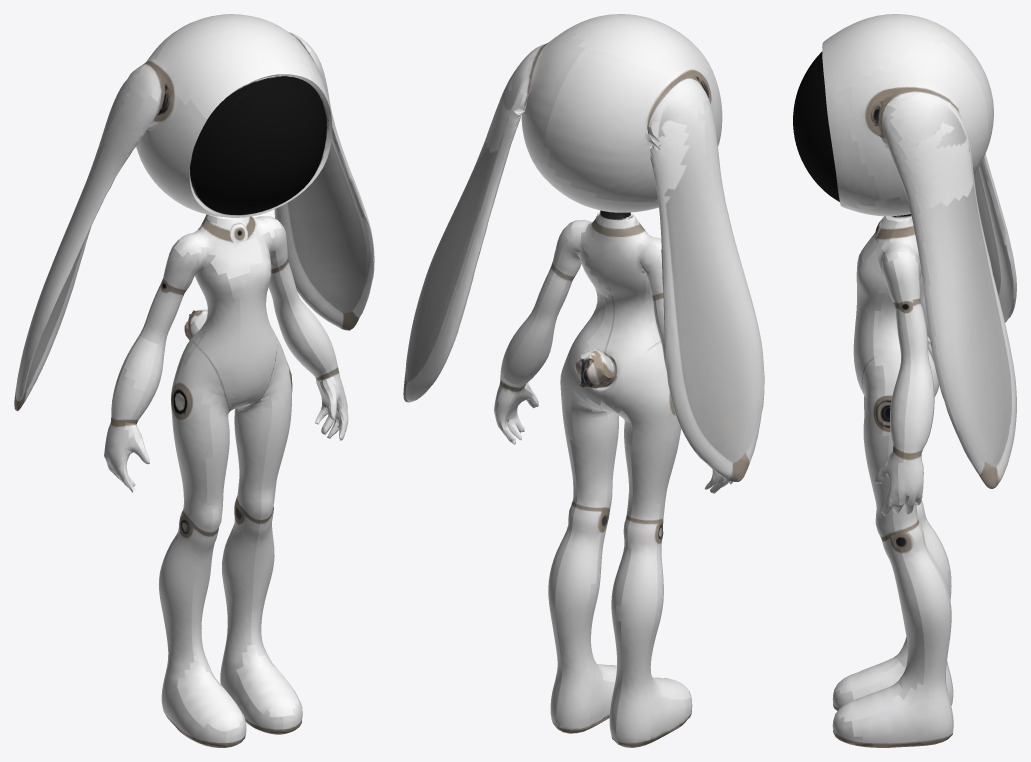
File: character.glb
3 views of the same model, side by side, from view 1: azimuth 30°, elevation 25°; view 2: azimuth 150°, elevation 25°; view 3: azimuth 270°, elevation 25° (orthographic).
Parts seen in each view (by area): view 1: Mesh0; view 2: Mesh0; view 3: Mesh0.
Part boxes in pixels (left/top/right/bottom): Mesh0: left=14, top=14, right=374, bottom=747; Mesh0: left=403, top=14, right=764, bottom=747; Mesh0: left=793, top=14, right=1016, bottom=747.
Bounding box in the file's own units: 0.9884 × 1.9 × 0.5502.
Materials: 1 (1 with a texture image).
